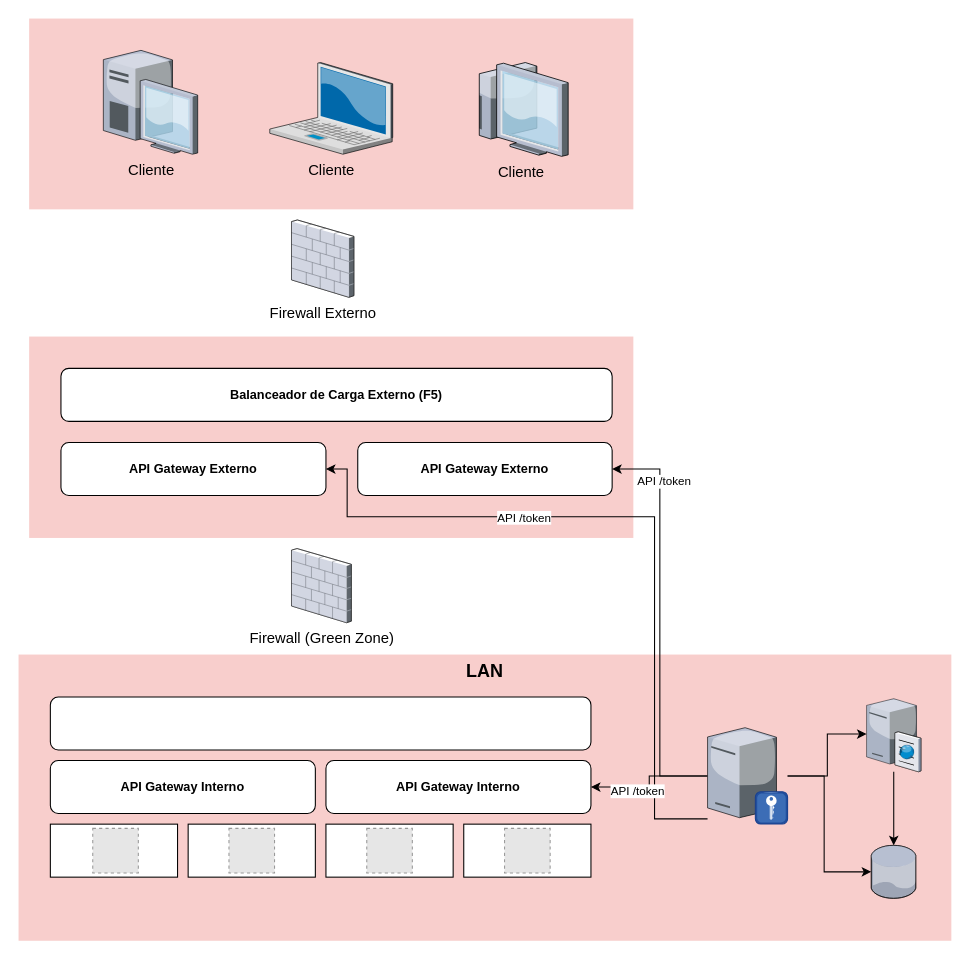
Some shapes in this 969 by 958 pixel diagram are drawn without their labels. Grey dashed boxes stand in for pictures. Here are the shapes that lost their labels. From the top down, the box of each, then its label:
(29, 18, 633, 209): Internet
(29, 336, 633, 537): DMZ
(49, 696, 591, 750): Balanceador de Carga Interno (HA Proxy)
(866, 696, 920, 771): Cache Tokens
(707, 727, 787, 824): Auth Server
(871, 845, 916, 898): Repositorio Tokens
